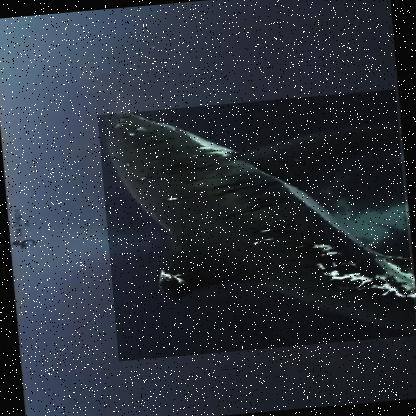white-shark: (97, 87, 415, 361)
